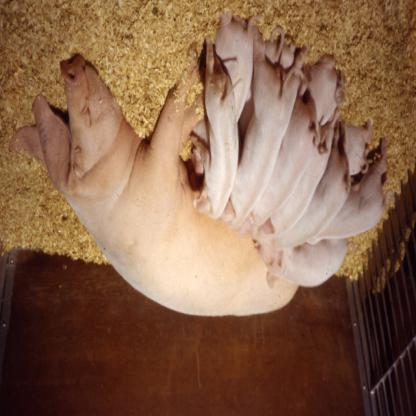boar: (7, 9, 394, 317)
